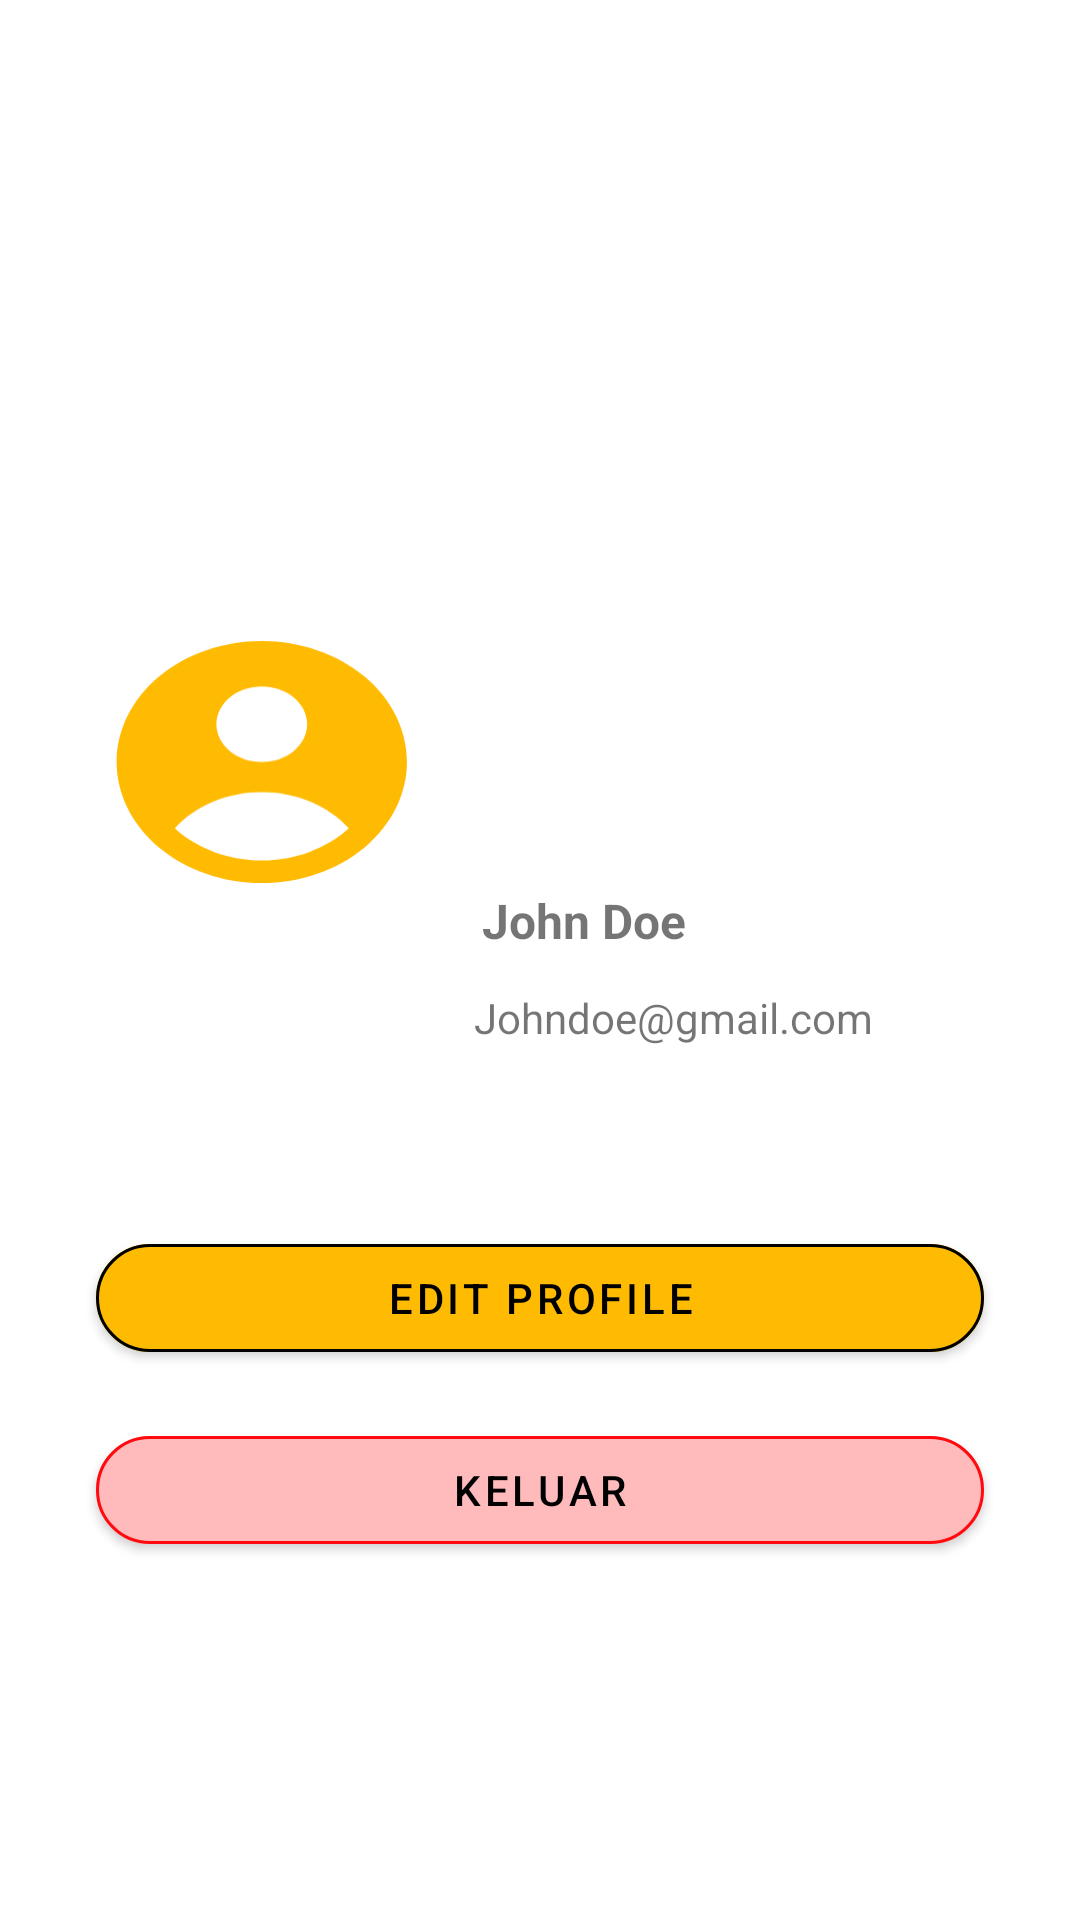

Screen size 1080×1920. Icon name, then its box in pixels as {"left": x1, "top": y1, "right": x2, "bottom": y2}:
profile: {"left": 116, "top": 641, "right": 407, "bottom": 883}
